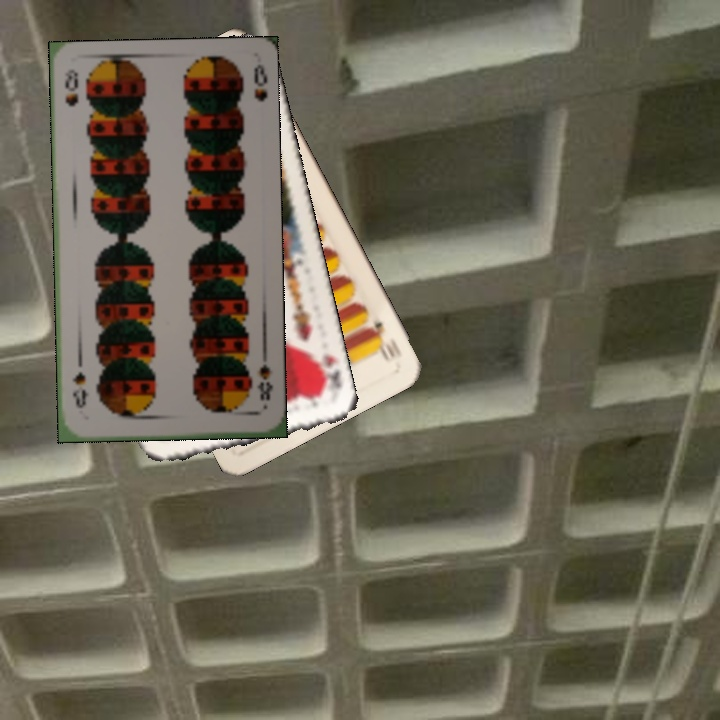E10: (365, 317, 398, 365)
HK: (310, 349, 346, 396)
S8: (253, 352, 275, 403), (61, 66, 81, 109)
